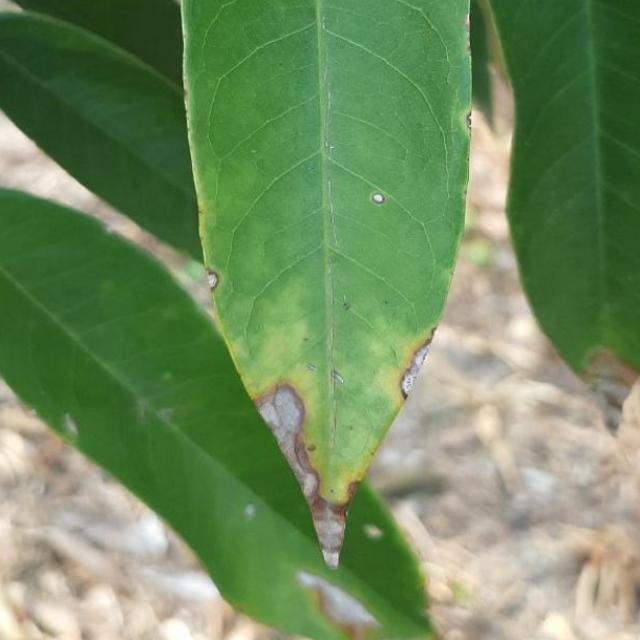Leaf Blight: (165, 0, 486, 582)
